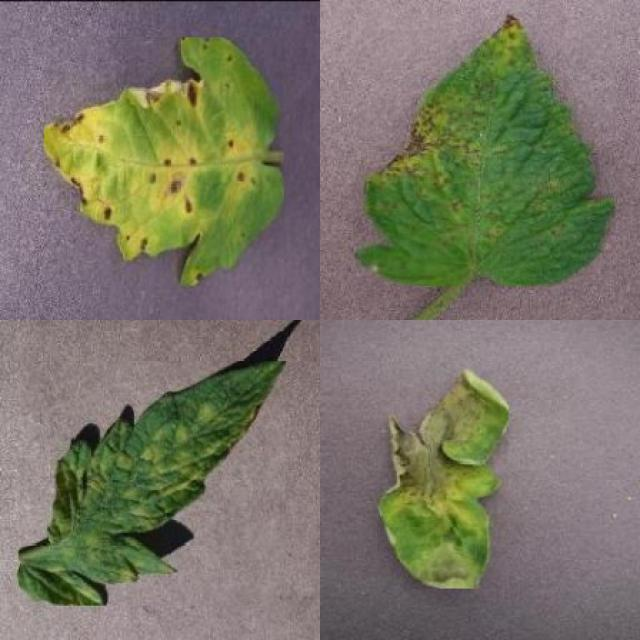Late Blight: (378, 368, 509, 588)
Leaf Mold: (18, 360, 286, 606)
Septoria: (354, 15, 616, 285), (45, 37, 285, 286)
